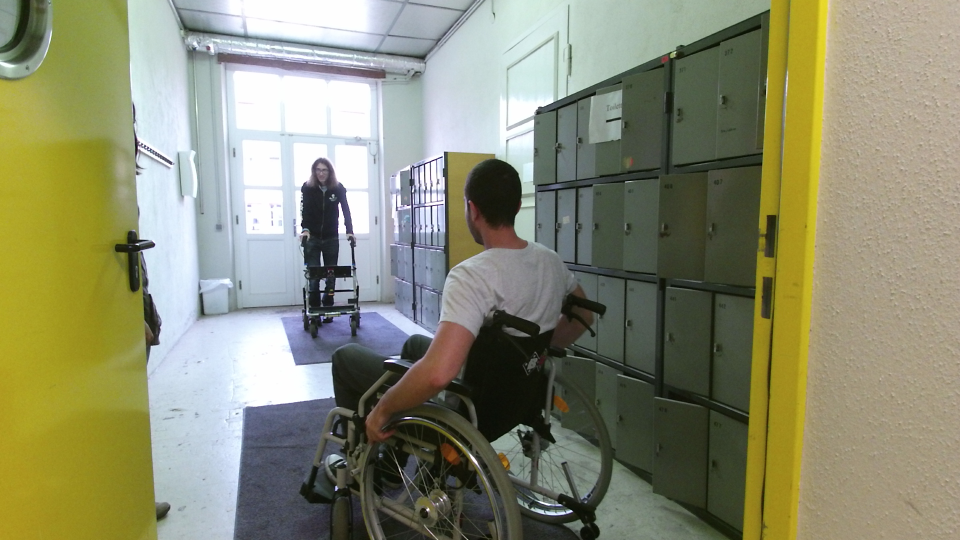wheelchair: (291, 154, 624, 540)
